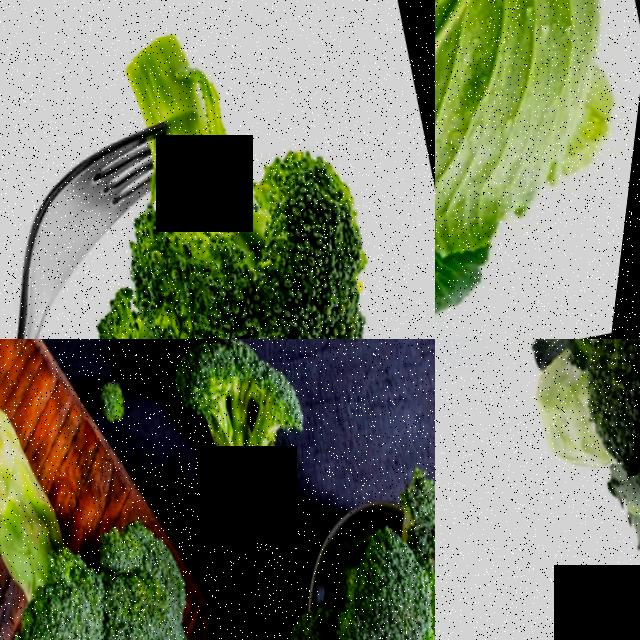broccoli: (65, 0, 434, 339), (0, 352, 257, 640), (435, 339, 640, 640), (145, 339, 343, 537), (306, 495, 435, 640)
cabbage: (435, 0, 640, 339)
